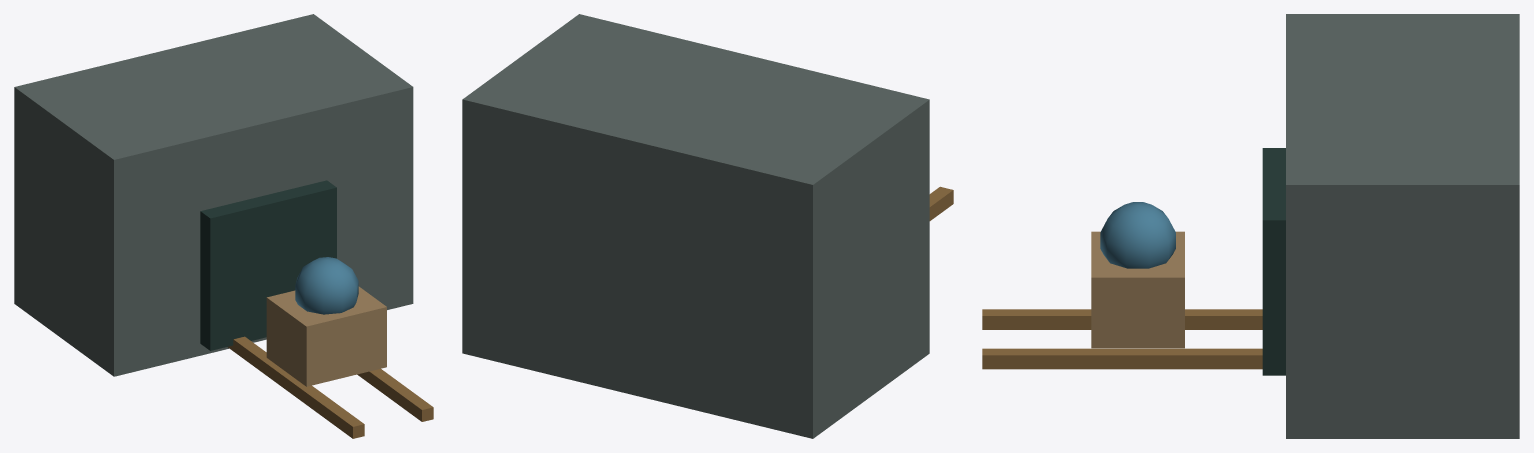
The model's file is imp_ling_kuang.glb.
The picture shows the model from 3 angles, left to right: view 1: azimuth 30°, elevation 25°; view 2: azimuth 150°, elevation 25°; view 3: azimuth 270°, elevation 25°; orthographic projection. The views are drawn at different scales.
Parts seen in each view (by area): view 1: _MeshInstance3D_183, _MeshInstance3D_184, _MeshInstance3D_187, _MeshInstance3D_188, _MeshInstance3D_185, _MeshInstance3D_186; view 2: _MeshInstance3D_183, _MeshInstance3D_185; view 3: _MeshInstance3D_183, _MeshInstance3D_187, _MeshInstance3D_186, _MeshInstance3D_184, _MeshInstance3D_188, _MeshInstance3D_185.
Part boxes in pixels (left/top/right/bottom): _MeshInstance3D_183: left=14, top=14, right=413, bottom=376; _MeshInstance3D_184: left=200, top=180, right=336, bottom=350; _MeshInstance3D_187: left=266, top=286, right=386, bottom=386; _MeshInstance3D_188: left=295, top=257, right=358, bottom=314; _MeshInstance3D_185: left=228, top=336, right=364, bottom=438; _MeshInstance3D_186: left=357, top=368, right=433, bottom=421; _MeshInstance3D_183: left=462, top=14, right=929, bottom=438; _MeshInstance3D_185: left=929, top=186, right=953, bottom=220; _MeshInstance3D_183: left=1286, top=14, right=1519, bottom=438; _MeshInstance3D_187: left=1091, top=231, right=1184, bottom=348; _MeshInstance3D_186: left=982, top=348, right=1262, bottom=369; _MeshInstance3D_184: left=1262, top=148, right=1285, bottom=375; _MeshInstance3D_188: left=1100, top=202, right=1175, bottom=268; _MeshInstance3D_185: left=982, top=309, right=1262, bottom=329.
Size of the model in its own units: 0.52 by 0.36 by 0.69.
